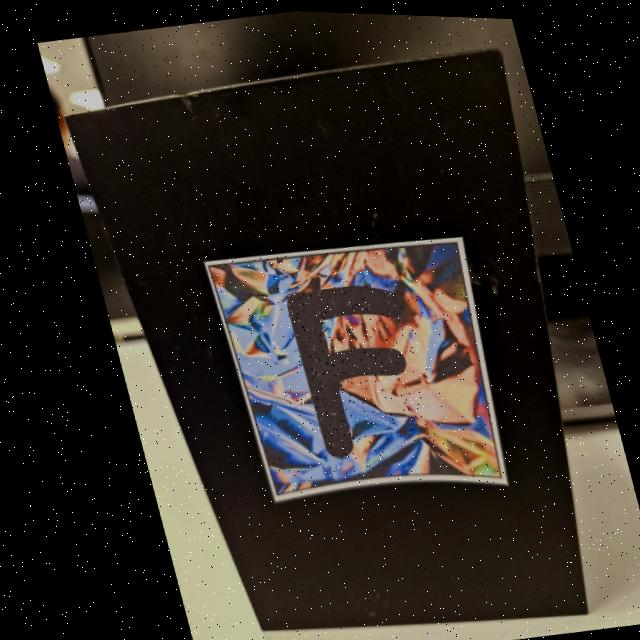F: (282, 284, 399, 455)
